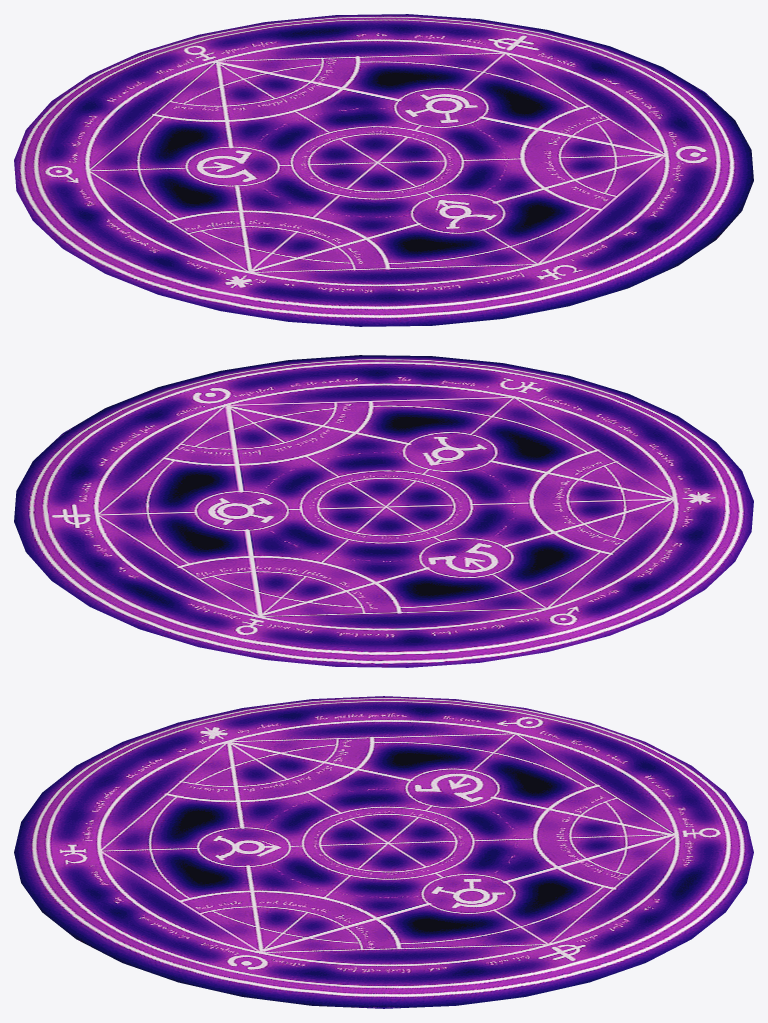
The model's file is alfombra.fbx.
The picture shows the model from 3 angles, top to bottom: view 1: azimuth 30°, elevation 25°; view 2: azimuth 150°, elevation 25°; view 3: azimuth 270°, elevation 25°; orthographic projection.
Visible parts, largest first — view 1: Circle; view 2: Circle; view 3: Circle.
Part boxes in pixels (bbox=[...]): Circle: bbox=[14, 14, 753, 326]; Circle: bbox=[14, 355, 753, 667]; Circle: bbox=[14, 696, 753, 1008].
Size of the model in its own units: 395 by 4.2 by 395.
1 material, 1 textured.
